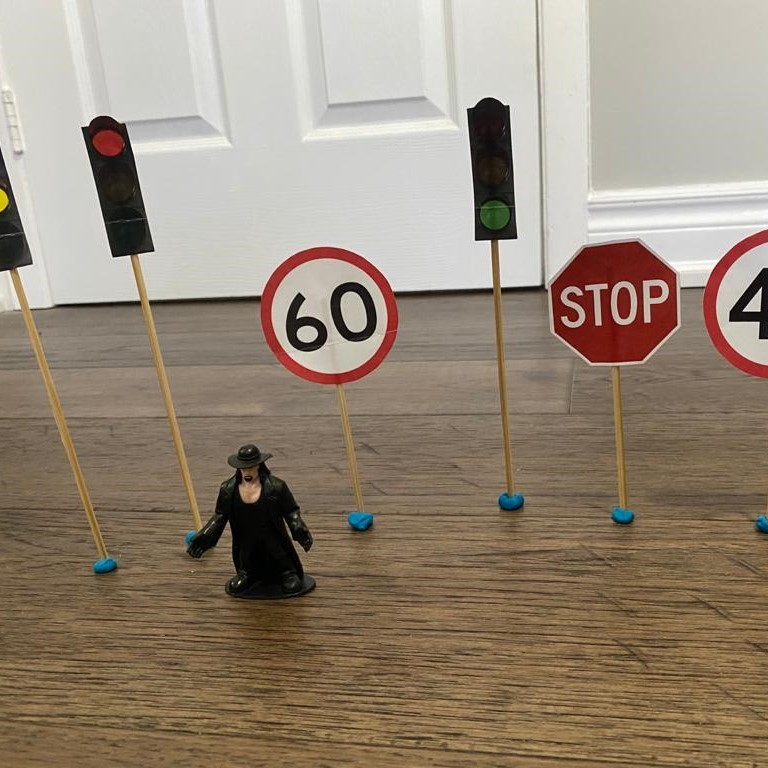Green Traffic Light: (466, 93, 516, 246)
Person: (188, 439, 319, 605)
Red Traffic Light: (78, 111, 156, 261)
Speed Limit 60: (255, 242, 404, 390)
Stop Sign: (544, 236, 683, 374)
